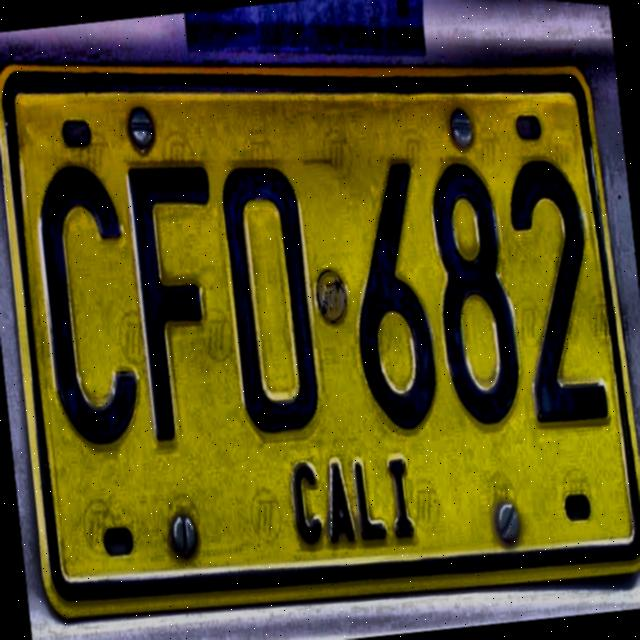plate: (0, 63, 640, 621)
